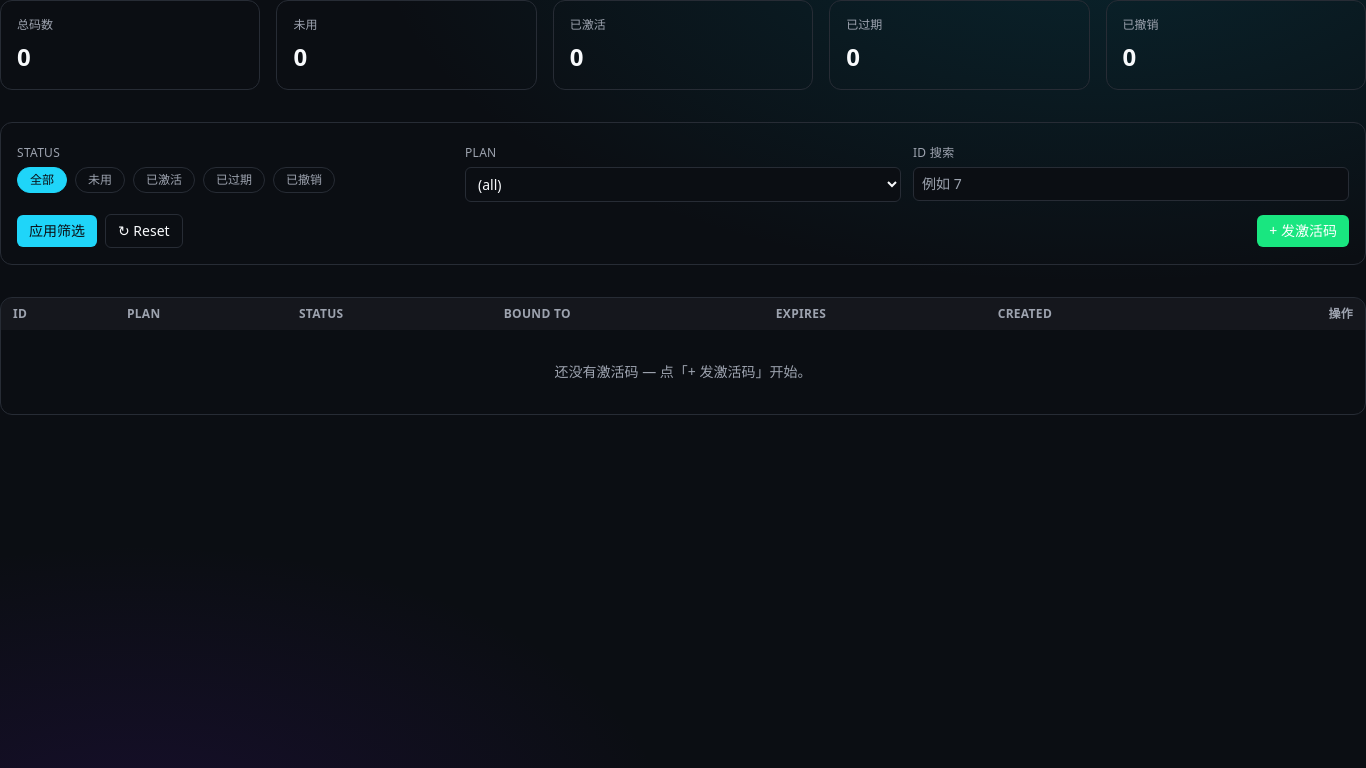
Test: ActivationCodesPanel — Phase 23 IM delivery › submitting with feishu_open_id + send_im=true passes both fields + surfaces 'sent' toast
The width and height of the screenshot is (1366, 768).
Click the button with test id "btn-issue".
click(1303, 231)  # box top-left (1257, 215), bottom-right (1349, 247)
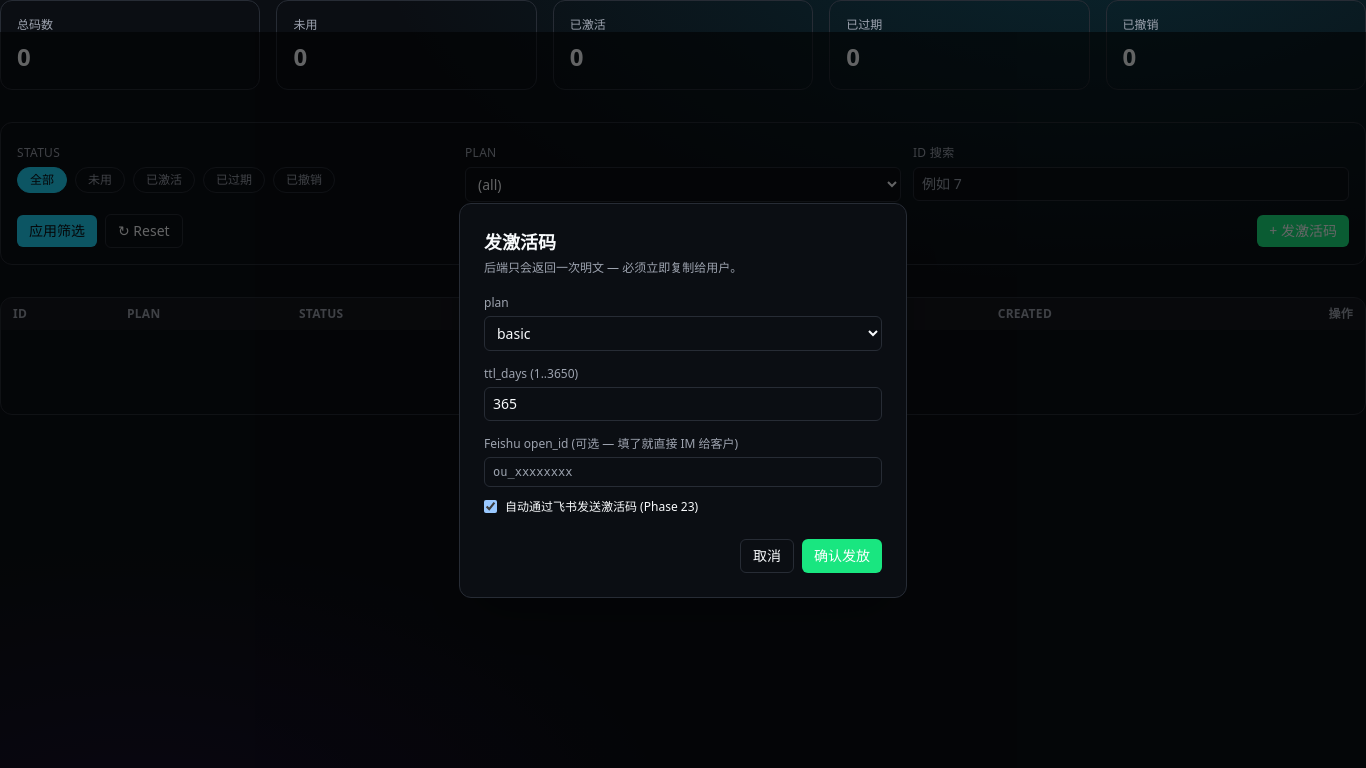
Select "pro" in the dropdown with test id "issue-plan" at (683, 333), box top-left (484, 316), bottom-right (882, 350)
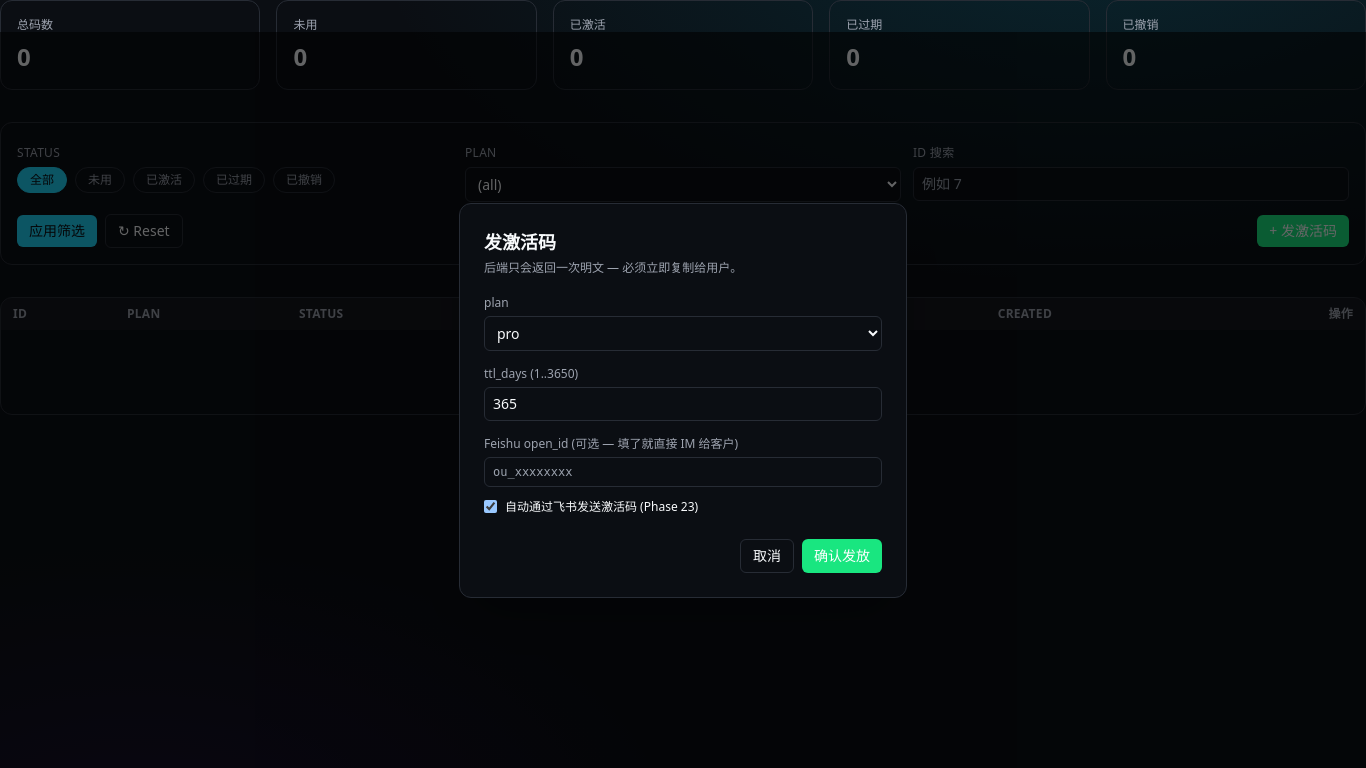
Type "ou_target" into the field with test id "issue-feishu-open-id".
click(683, 472); type("ou_target")  # box top-left (484, 456), bottom-right (882, 486)
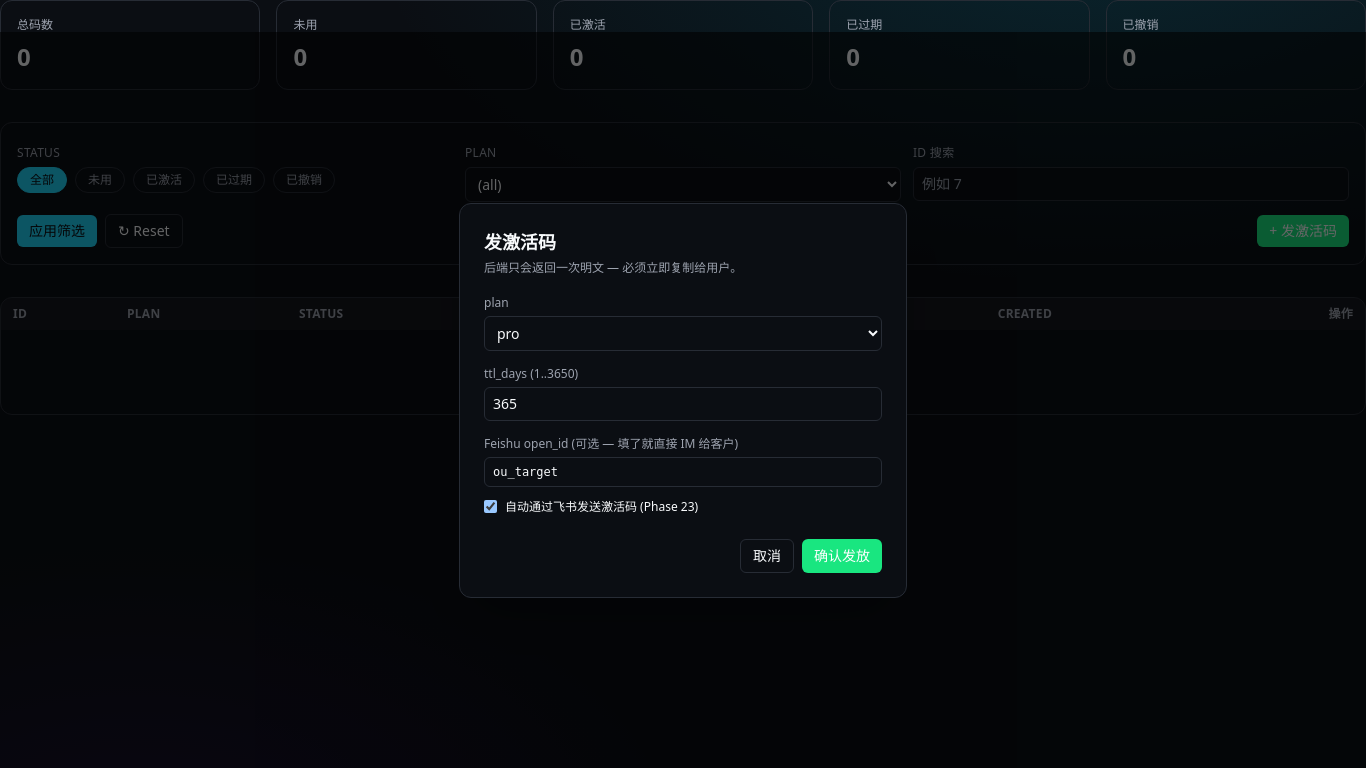
Click the button with test id "issue-submit".
click(842, 556)  # box top-left (802, 538), bottom-right (882, 572)
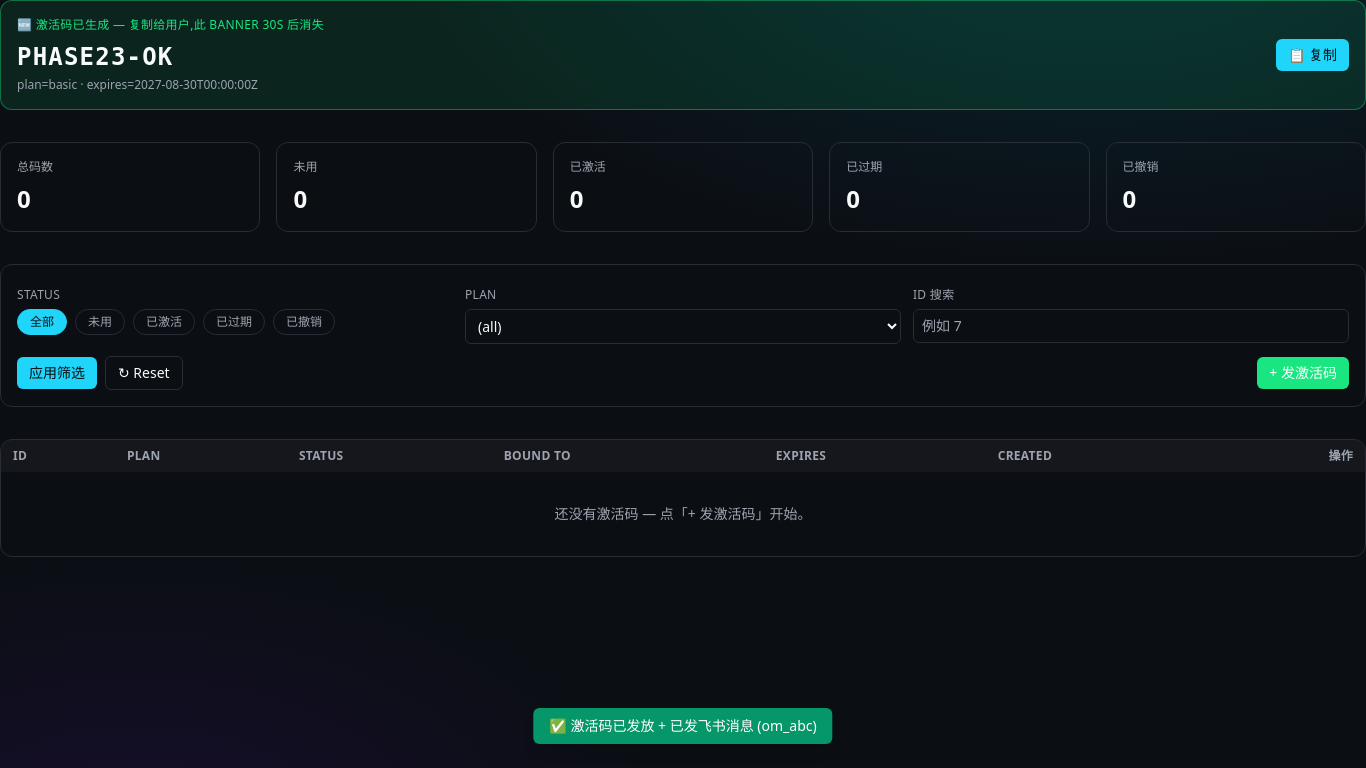
Now the message with test id "activation-toast" shows "已发飞书消息 (om_abc)", box top-left (549, 716), bottom-right (817, 735)
